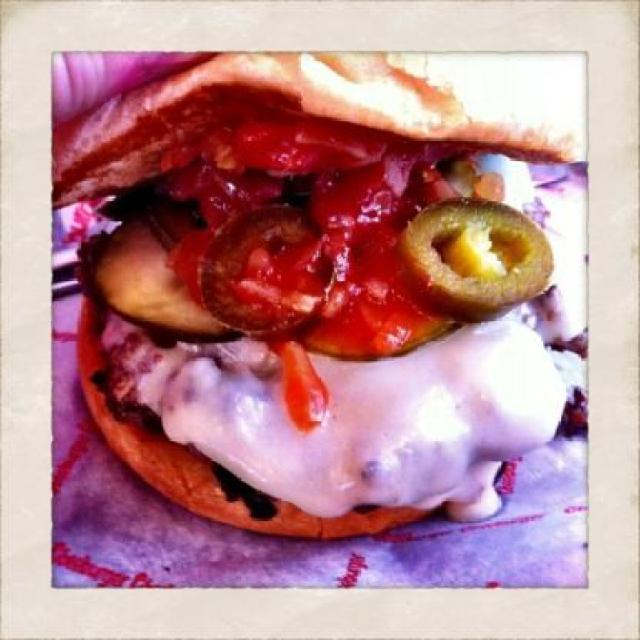Sandwich: (50, 49, 587, 546)
